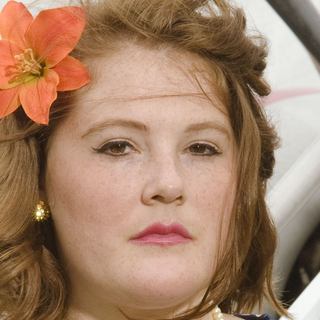eye: (92, 135, 144, 161), (180, 138, 226, 163)
